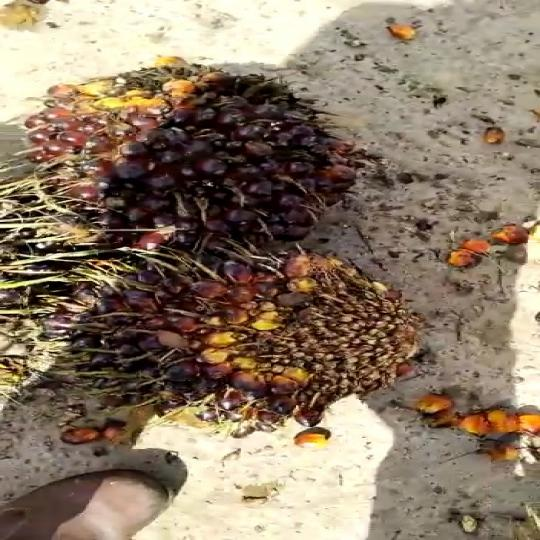kurang masak: (0, 234, 448, 452), (16, 63, 328, 243)
